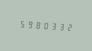eight: (33, 19, 40, 30)
five: (17, 18, 24, 29)
nine: (25, 18, 32, 30)
three: (57, 20, 64, 32), (49, 20, 56, 31)
two: (65, 21, 72, 32)
zero: (41, 19, 48, 31)
